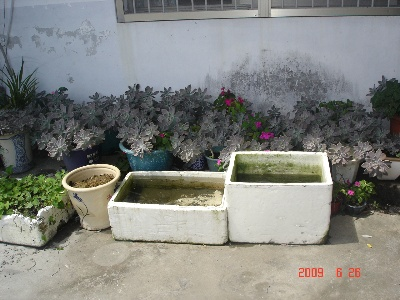bucket: (62, 164, 122, 231)
styrofoam: (225, 150, 333, 246), (107, 170, 228, 246), (1, 189, 76, 248)
